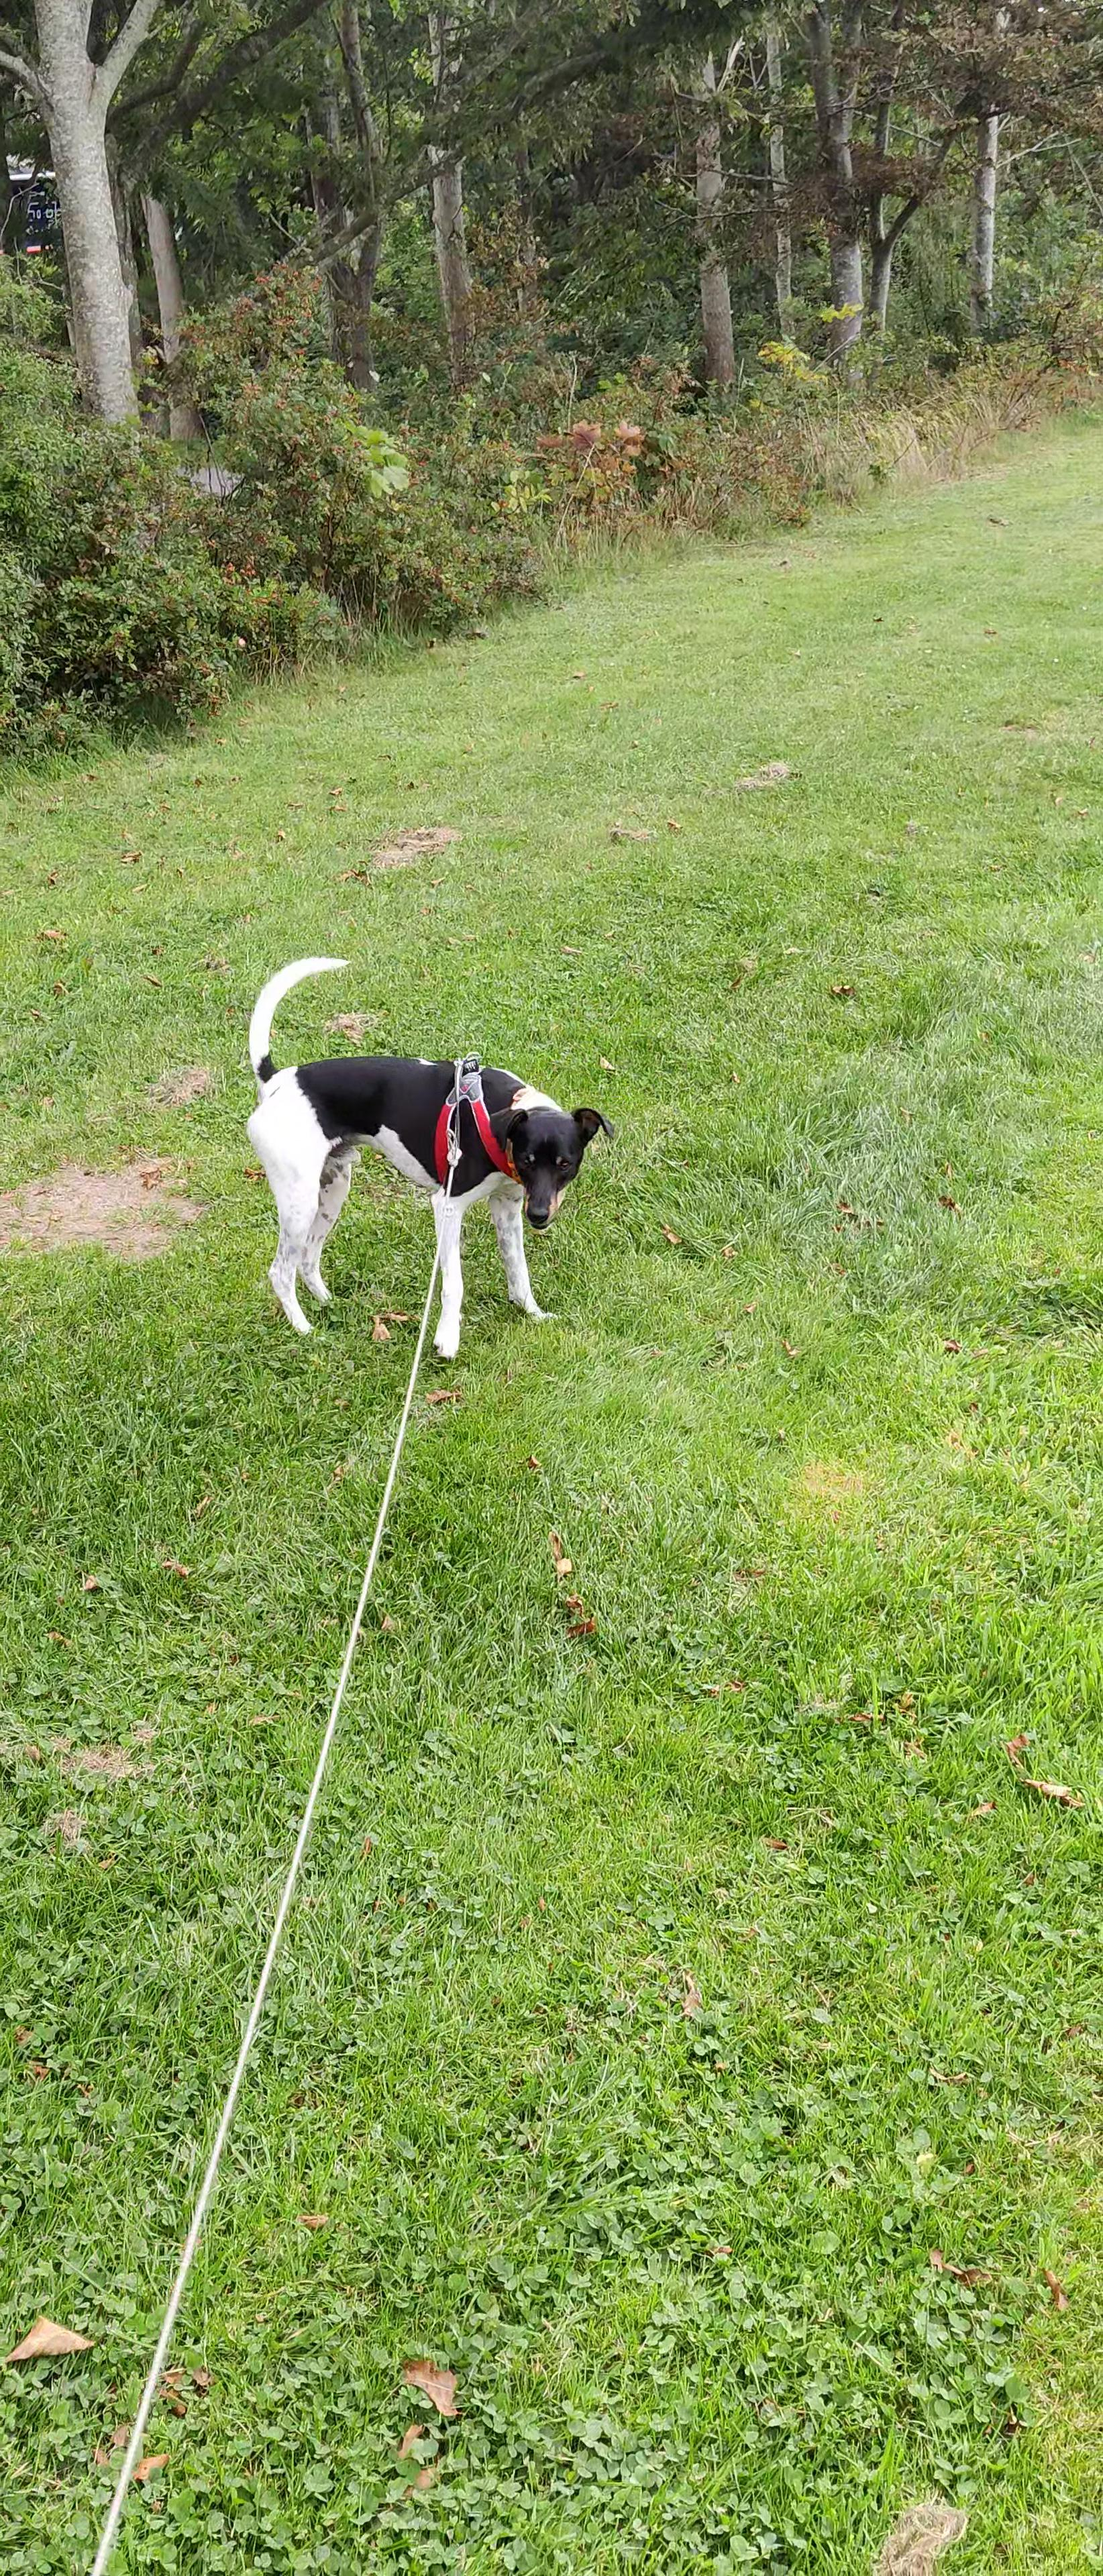Dog: (242, 951, 616, 1362)
